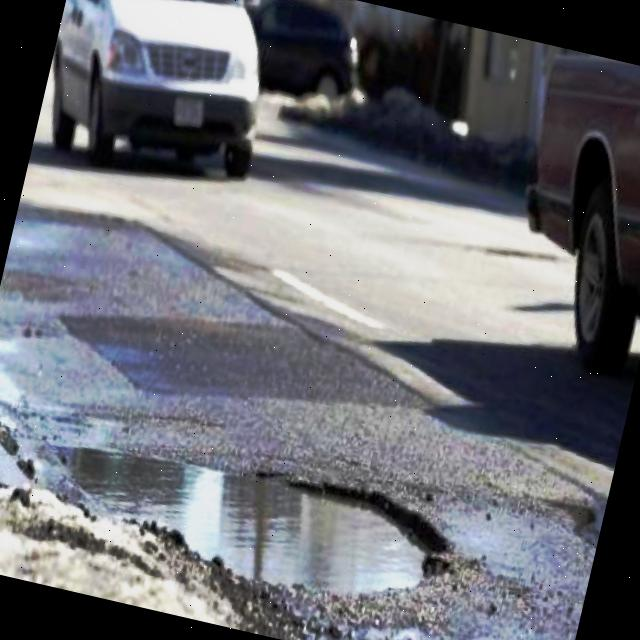pothole: (0, 392, 471, 633)
